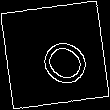O_NW: (21, 22, 89, 88)
